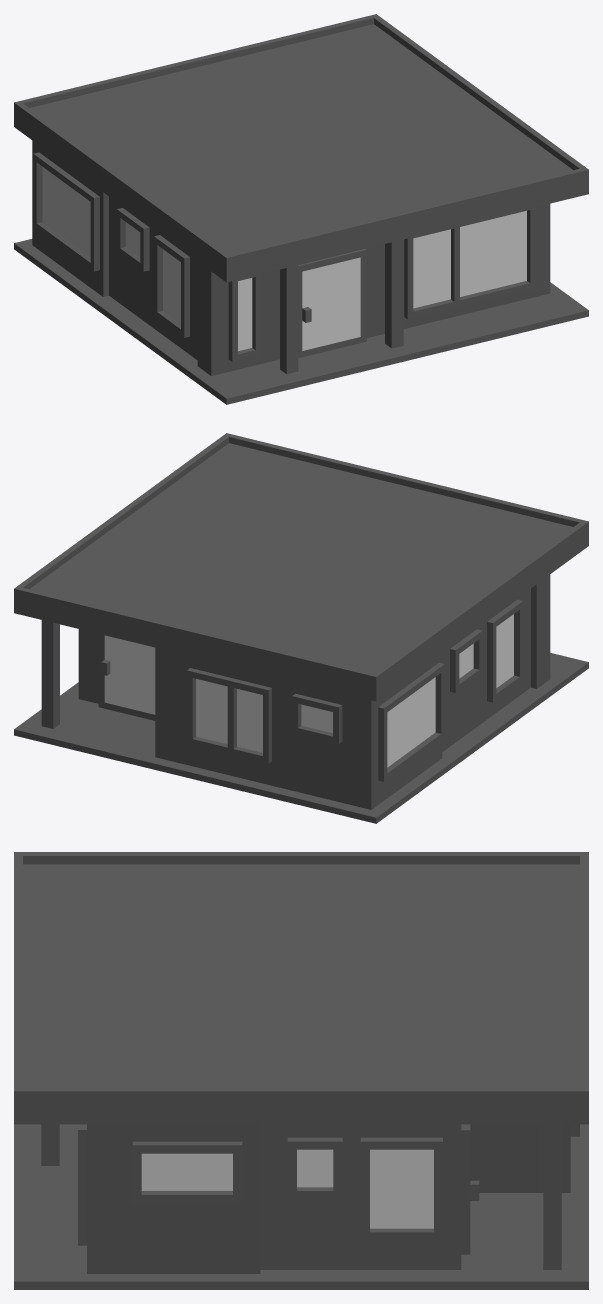
Rendered from bld_house1b.obj.
3 renders of one model, top to bottom at view 1: azimuth 30°, elevation 25°; view 2: azimuth 150°, elevation 25°; view 3: azimuth 270°, elevation 25°, orthographic. The views are drawn at different scales.
Bounding box in the file's own units: 62 × 24 × 63.
